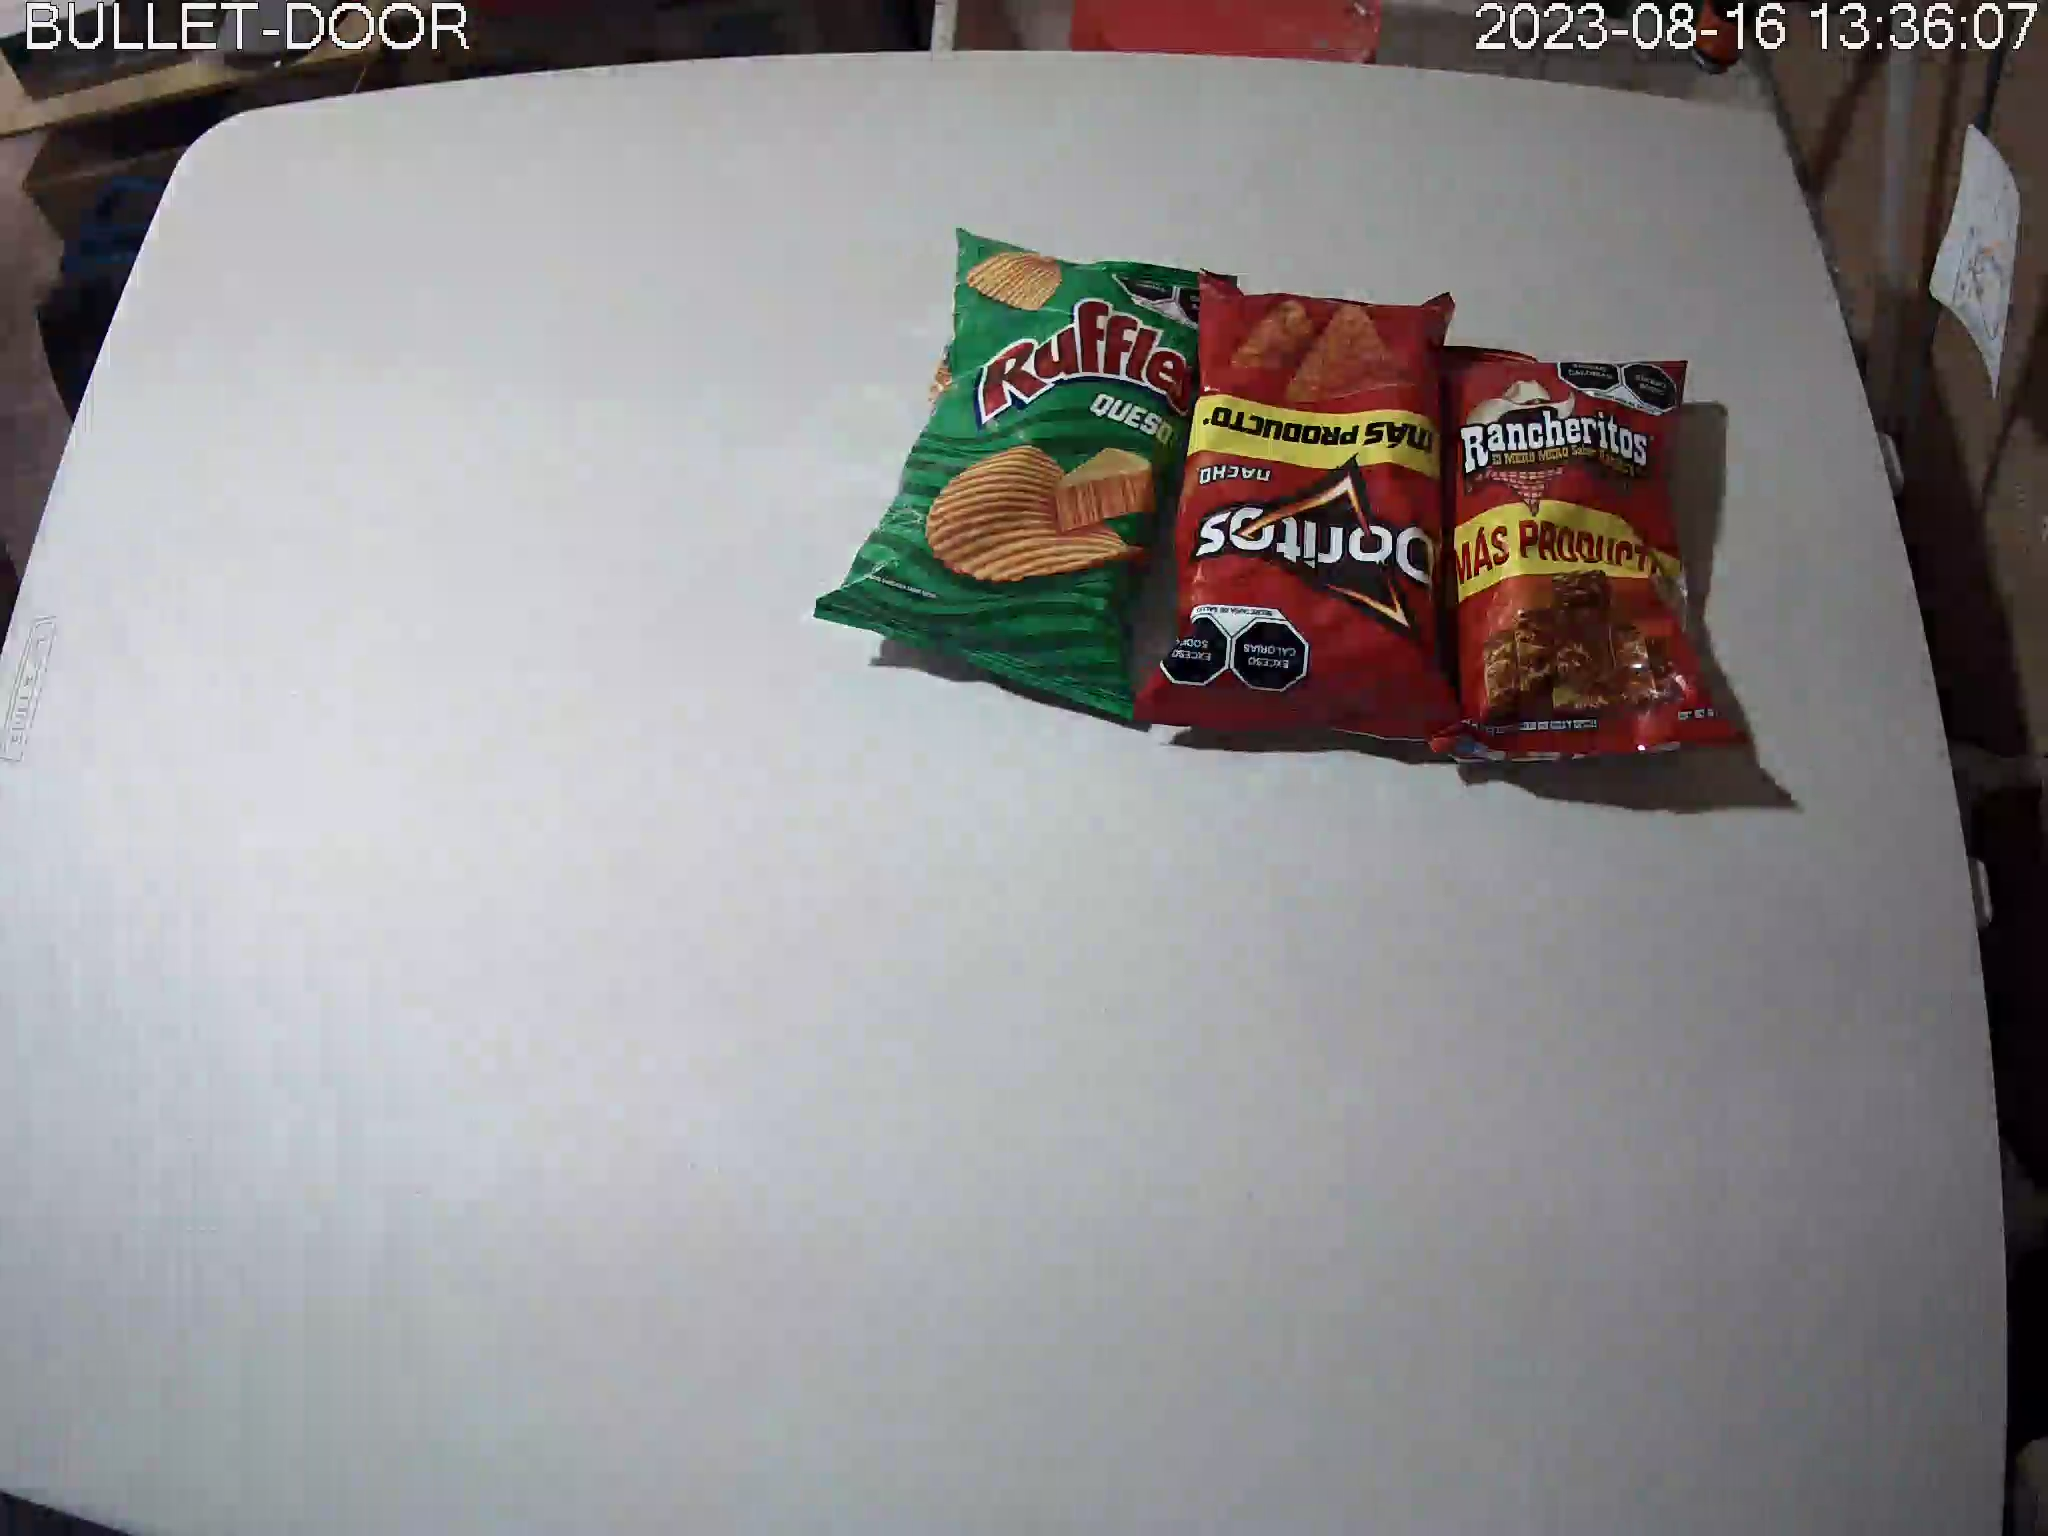DoritosN_61_F: (1135, 274, 1467, 753)
Rancheritos_58_F: (1421, 345, 1753, 770)
RufflesQ_48_F: (814, 229, 1238, 729)
